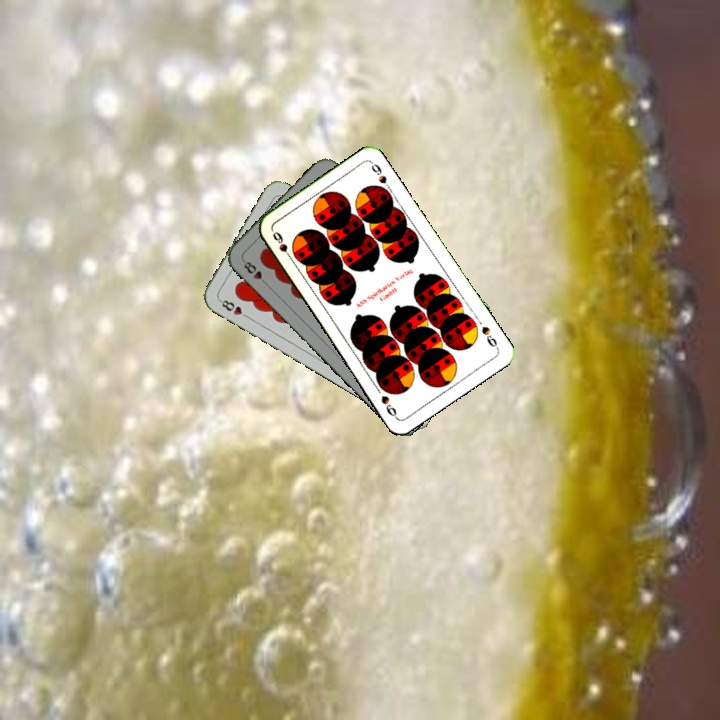H8: (239, 256, 271, 288), (215, 295, 252, 321)
S9: (268, 227, 295, 263), (477, 322, 501, 352)
